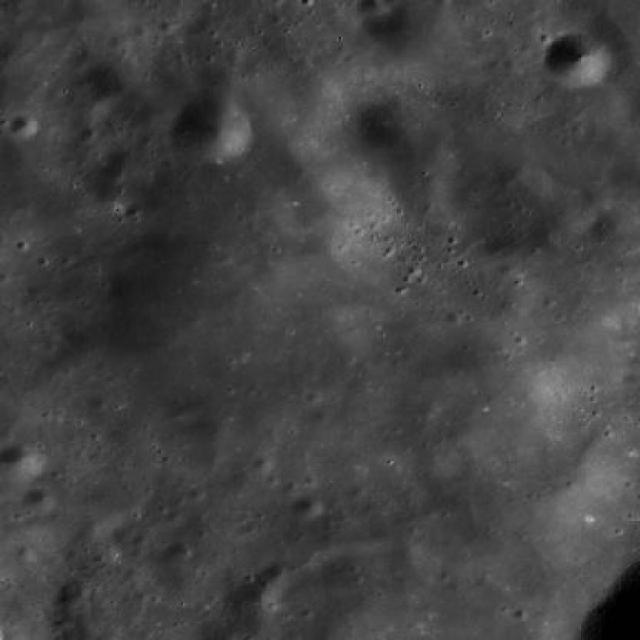crater: (38, 128, 436, 448), (370, 0, 464, 69), (171, 100, 251, 166), (378, 140, 457, 206), (542, 31, 608, 86), (152, 556, 214, 606), (88, 58, 146, 106), (402, 440, 448, 478), (0, 444, 43, 482), (229, 584, 274, 620), (94, 178, 134, 211), (259, 563, 292, 589), (23, 488, 54, 514), (292, 496, 321, 519), (10, 114, 38, 137), (104, 163, 130, 183), (357, 0, 385, 18), (167, 540, 190, 560), (306, 408, 328, 426), (252, 454, 272, 472), (184, 482, 204, 500), (15, 544, 36, 560), (158, 20, 176, 34)
